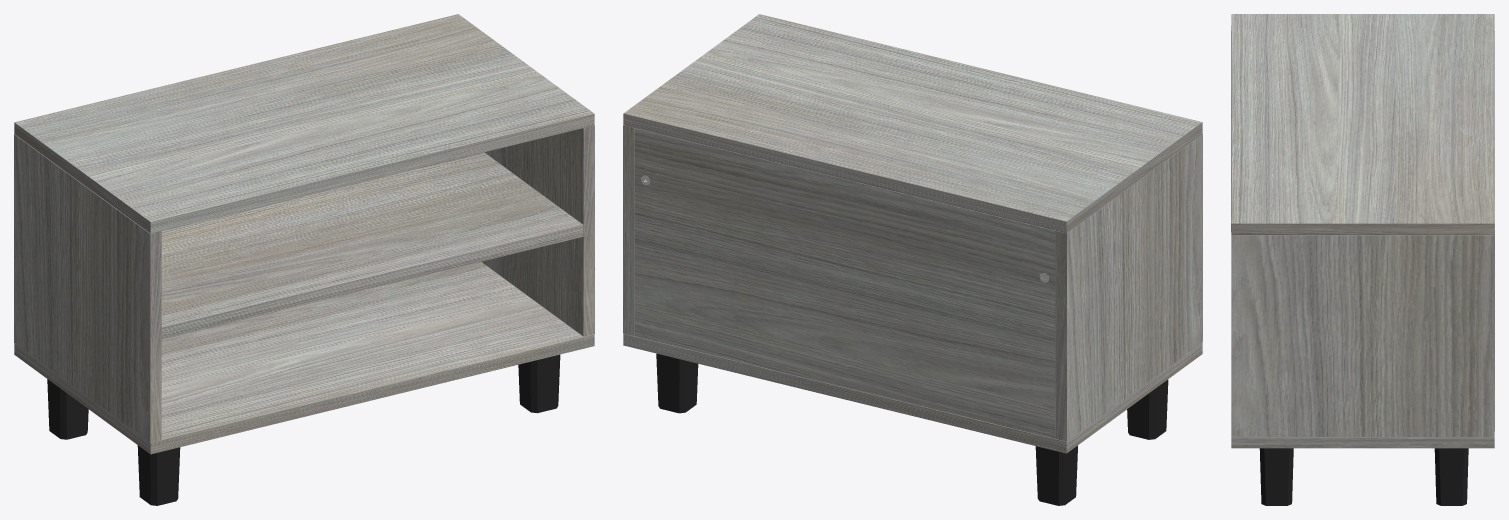
3 renders of one model, left to right at view 1: azimuth 30°, elevation 25°; view 2: azimuth 150°, elevation 25°; view 3: azimuth 270°, elevation 25°, orthographic. The views are drawn at different scales.
Visible parts, largest first — view 1: group_0.114, Cube, group_0.115; view 2: group_0.114, group_0.115; view 3: group_0.114, group_0.115.
Part boxes in pixels (x1,y1,x2,y2): group_0.114: [14, 14, 594, 454]; Cube: [161, 152, 583, 339]; group_0.115: [47, 354, 560, 505]; group_0.114: [623, 14, 1202, 453]; group_0.115: [656, 353, 1168, 505]; group_0.114: [1231, 14, 1494, 448]; group_0.115: [1259, 448, 1468, 505].
Bounding box in the file's own units: 0.7006 × 0.453 × 0.372.
3 materials, 1 textured.
